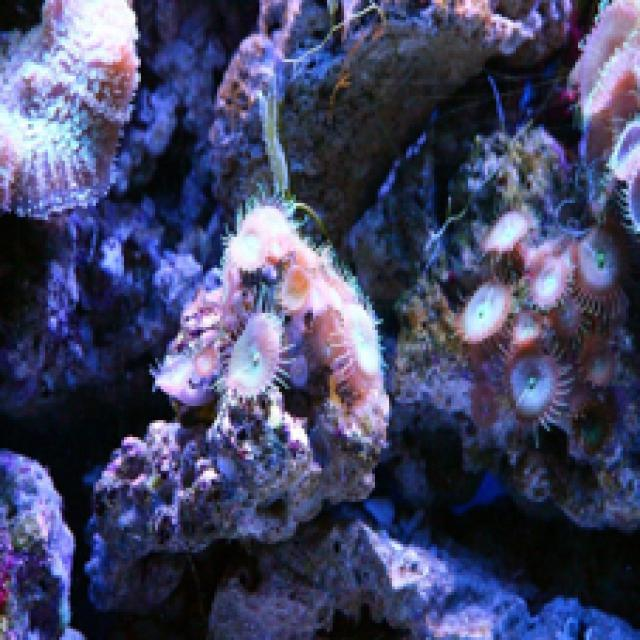Healthy: (91, 198, 390, 607), (421, 210, 624, 455), (1, 201, 210, 404), (1, 1, 139, 218), (571, 1, 638, 201), (210, 579, 331, 638)
